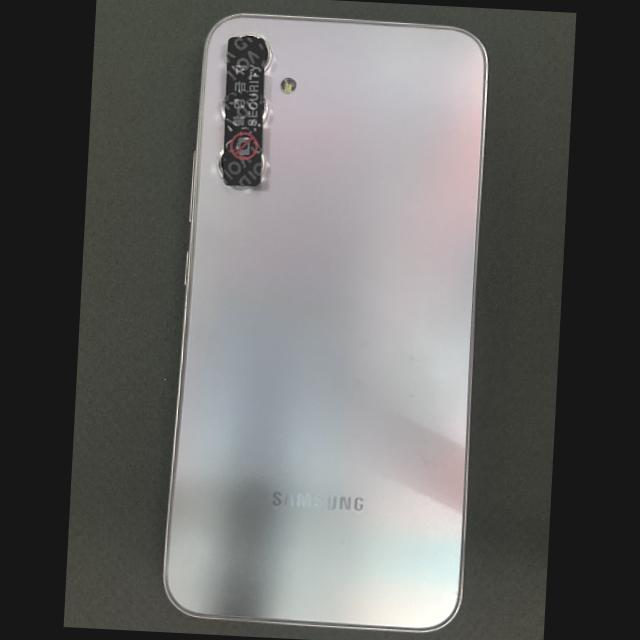lens: (236, 33, 272, 71), (217, 148, 224, 180), (263, 96, 268, 123)
phone: (162, 12, 490, 633)
sticker: (223, 37, 265, 187)
